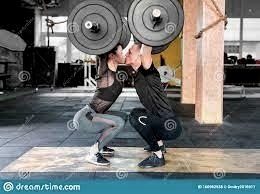Barbell: (152, 8, 161, 19), (86, 21, 94, 29)
